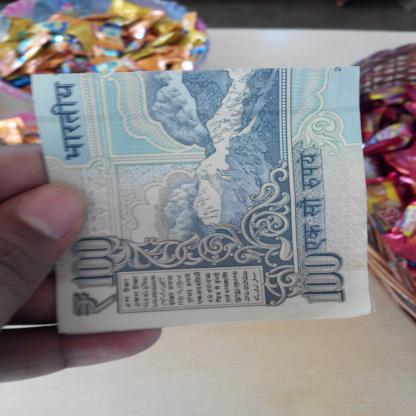Old100Back: (30, 66, 376, 335)
